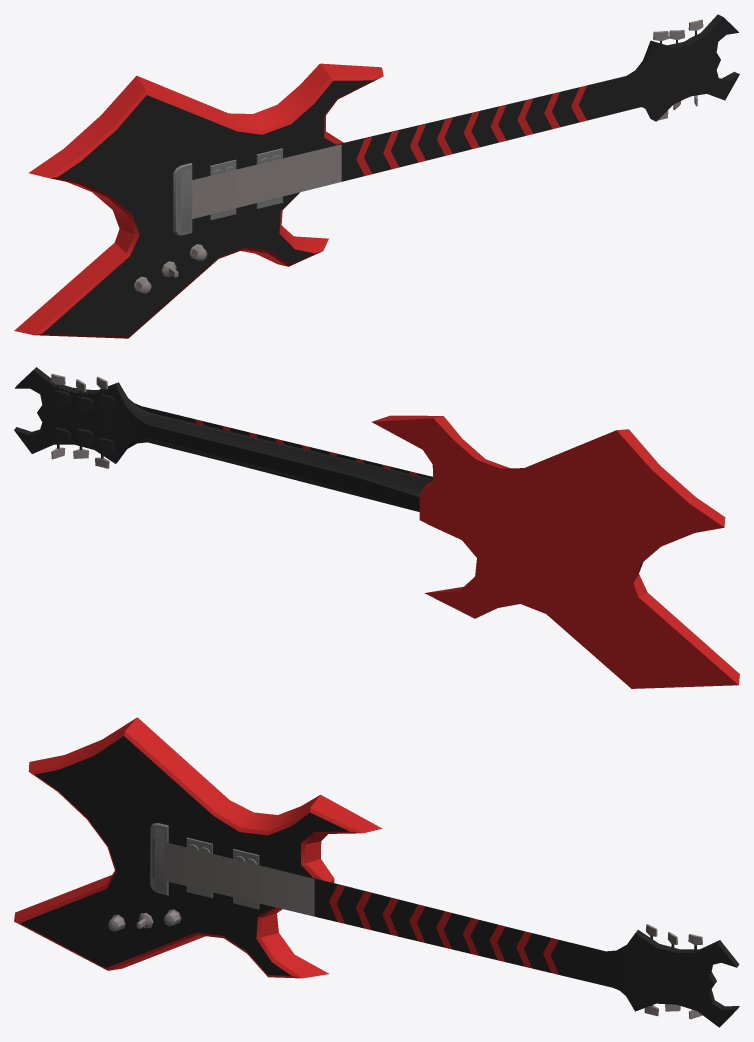
File: Guitar.fbx
3 renders of one model, top to bottom at view 1: azimuth 30°, elevation 25°; view 2: azimuth 150°, elevation 25°; view 3: azimuth 330°, elevation 25°, orthographic.
Parts seen in each view (by area): view 1: Electric GUitar; view 2: Electric GUitar; view 3: Electric GUitar.
Part boxes in pixels (x1,y1,x2,y2): Electric GUitar: [14, 14, 739, 338]; Electric GUitar: [14, 367, 739, 688]; Electric GUitar: [14, 717, 739, 1027].
Size of the model in its own units: 193 by 64.84 by 10.79.
